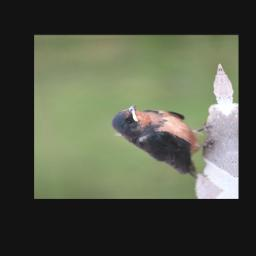Swallow: (108, 101, 222, 183)
